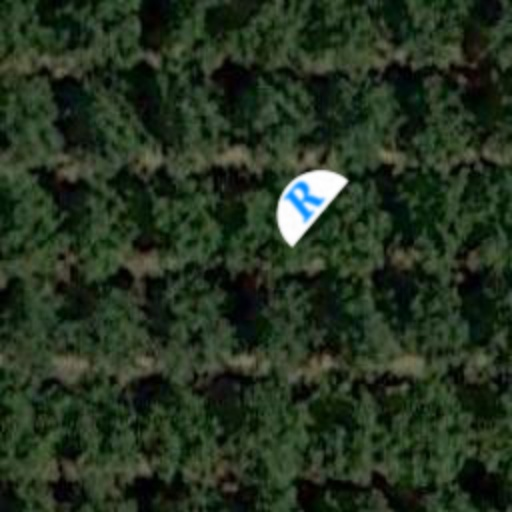semicircle: (242, 138, 366, 262)
